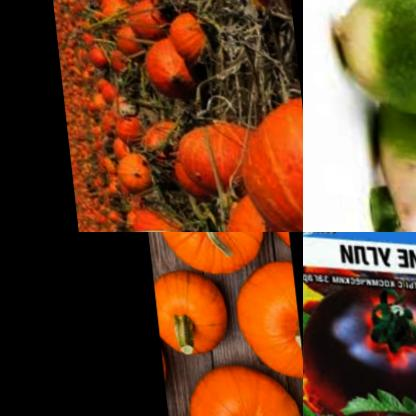pumpkin: (42, 0, 114, 232), (231, 82, 303, 232), (221, 249, 297, 374), (162, 109, 249, 199), (169, 362, 298, 416), (146, 265, 219, 359), (142, 232, 263, 273), (130, 36, 201, 100), (153, 9, 214, 71), (129, 114, 181, 160), (104, 143, 146, 195), (210, 196, 259, 232), (115, 0, 160, 39), (86, 40, 113, 105), (108, 20, 145, 56), (108, 111, 139, 150), (86, 0, 120, 21)
redka: (327, 0, 416, 117), (363, 50, 416, 232)
tomato: (303, 259, 416, 416)
